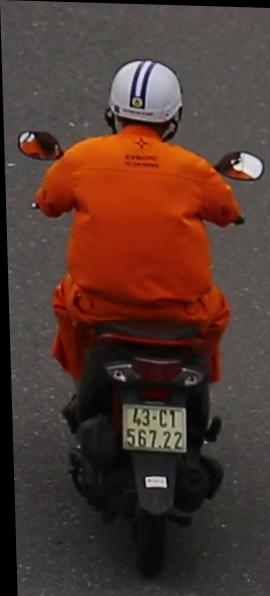LP: (116, 395, 188, 455)
helmet: (102, 56, 188, 153)
